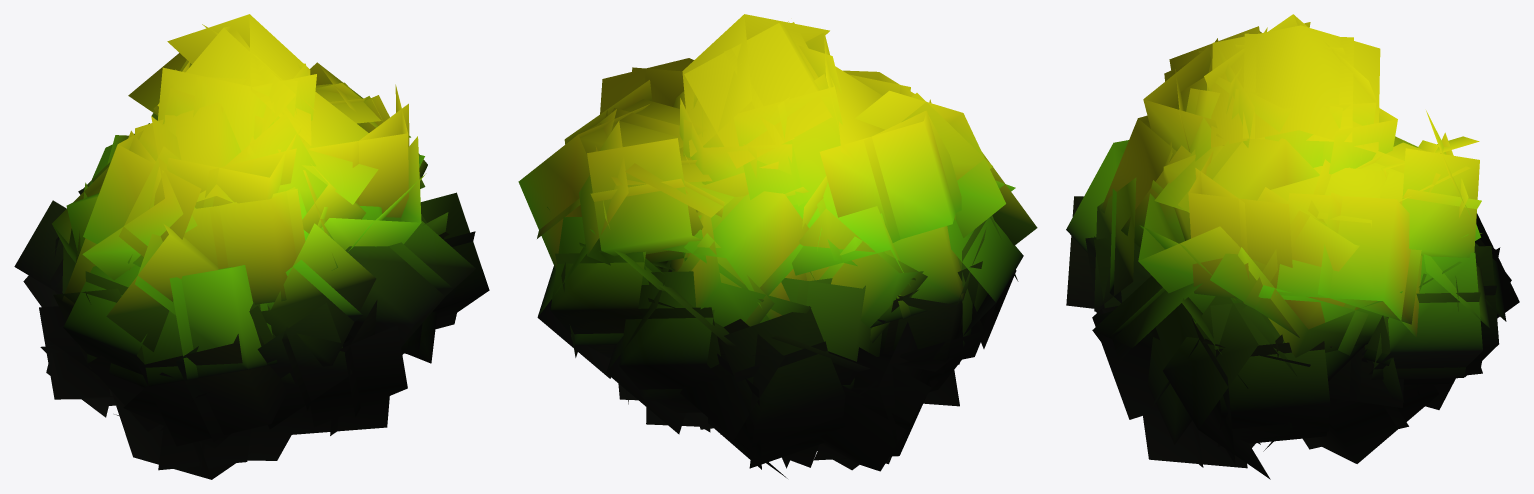
Rendered from Bush04.fbx.
3 renders of one model, left to right at view 1: azimuth 30°, elevation 25°; view 2: azimuth 150°, elevation 25°; view 3: azimuth 270°, elevation 25°, orthographic. The views are drawn at different scales.
Visible parts, largest first — view 1: Foliage_Bush_Variant_A; view 2: Foliage_Bush_Variant_A; view 3: Foliage_Bush_Variant_A.
Boxes of the visible parts, box(x1,y1,x2,y2) form: Foliage_Bush_Variant_A: box(14, 14, 489, 479); Foliage_Bush_Variant_A: box(518, 14, 1037, 478); Foliage_Bush_Variant_A: box(1066, 14, 1519, 479).
Size of the model in its own units: 2.76 by 2.72 by 2.53.
